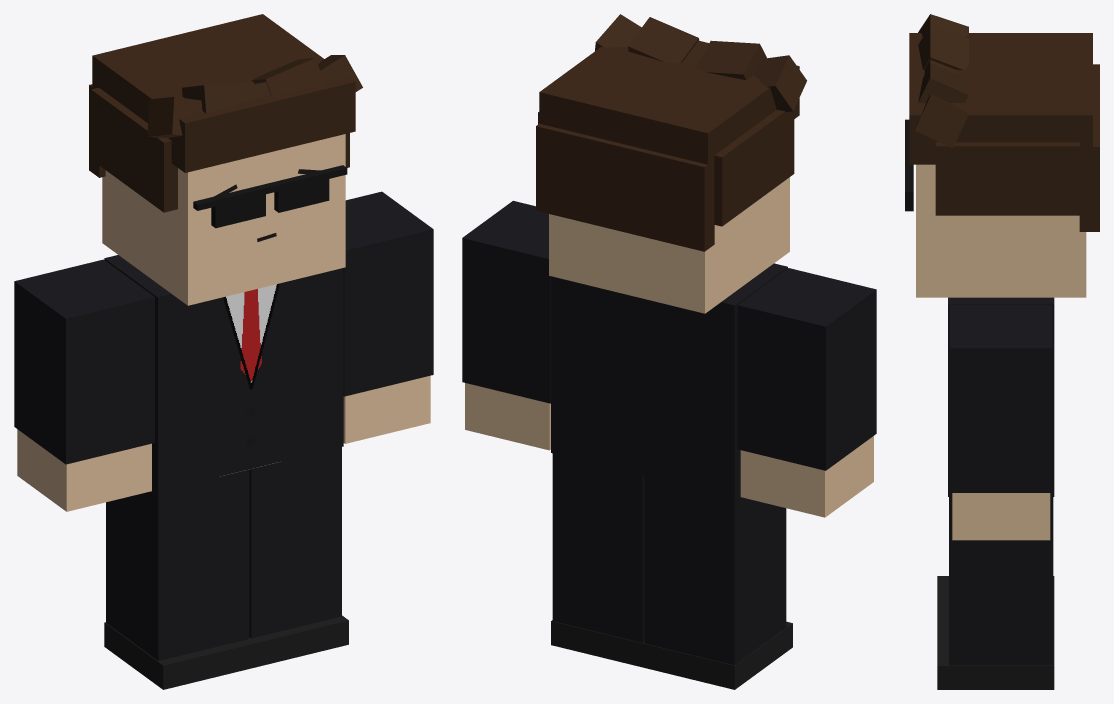
The model's file is hitman.glb.
3 renders of one model, left to right at view 1: azimuth 30°, elevation 25°; view 2: azimuth 150°, elevation 25°; view 3: azimuth 270°, elevation 25°, orthographic.
Visible parts, largest first — view 1: head, torso, arm_R, leg_R, arm_L, leg_L; view 2: head, torso, arm_R, leg_R, arm_L, leg_L; view 3: head, arm_L, leg_L, torso, leg_R.
Boxes of the visible parts, x1,y1,x2,y2 form: head: (89, 14, 362, 305); torso: (104, 255, 343, 491); arm_R: (14, 259, 154, 511); leg_R: (104, 469, 255, 689); arm_L: (343, 191, 433, 443); leg_L: (249, 447, 348, 667); head: (536, 14, 806, 313); torso: (551, 263, 787, 497); arm_R: (737, 268, 876, 517); leg_R: (643, 475, 792, 689); arm_L: (462, 200, 550, 450); leg_L: (551, 453, 644, 667); head: (905, 14, 1099, 297); arm_L: (950, 305, 1052, 540); leg_L: (937, 497, 1054, 689); torso: (948, 297, 1054, 496); leg_R: (937, 576, 1054, 620).
Bounding box in the file's own units: 0.99 × 1.54 × 0.458.
Materials: 9 (2 with a texture image).
